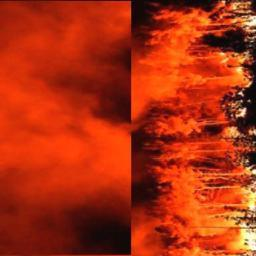Heavy smoke: (0, 0, 195, 256)
Medium fire: (208, 0, 256, 256)
